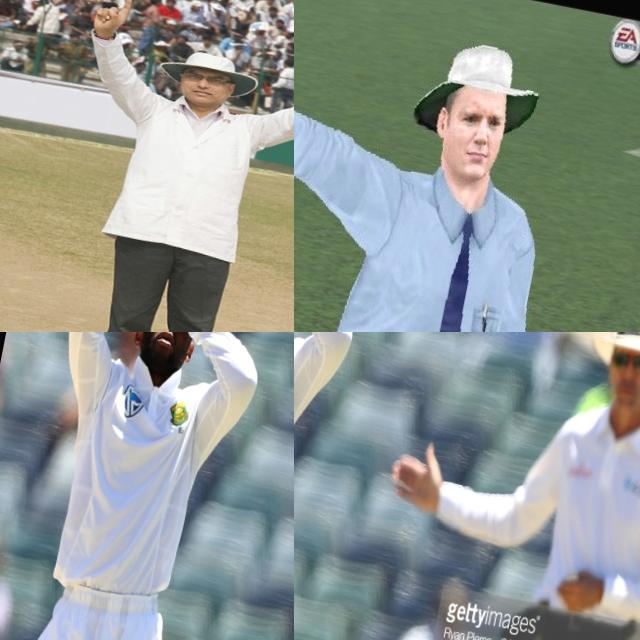No_Ball: (318, 332, 640, 640), (294, 0, 592, 332), (223, 332, 294, 640)
Six: (1, 0, 294, 332)
